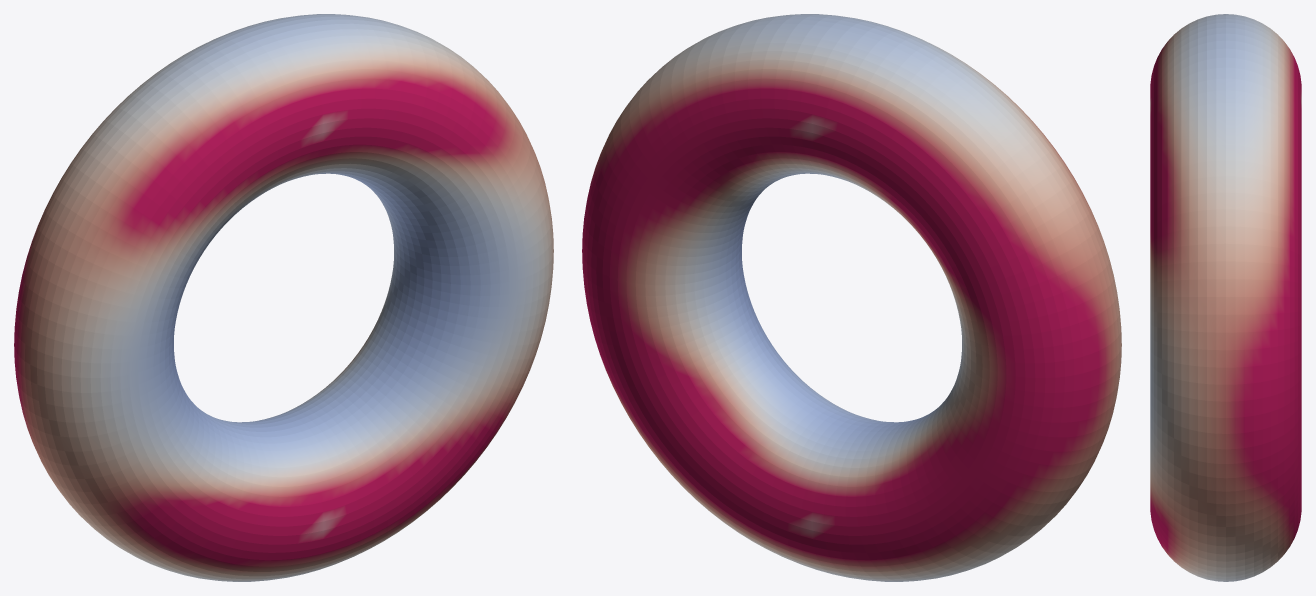
The picture shows the model from 3 angles, left to right: view 1: azimuth 30°, elevation 25°; view 2: azimuth 150°, elevation 25°; view 3: azimuth 270°, elevation 25°; orthographic projection. The views are drawn at different scales.
Visible parts, largest first — view 1: world; view 2: world; view 3: world.
Boxes of the visible parts, x1,y1,x2,y2 form: world: [14, 14, 553, 581]; world: [582, 14, 1121, 581]; world: [1150, 14, 1301, 581].
Size of the model in its own units: 25.47 by 25.47 by 6.79.
